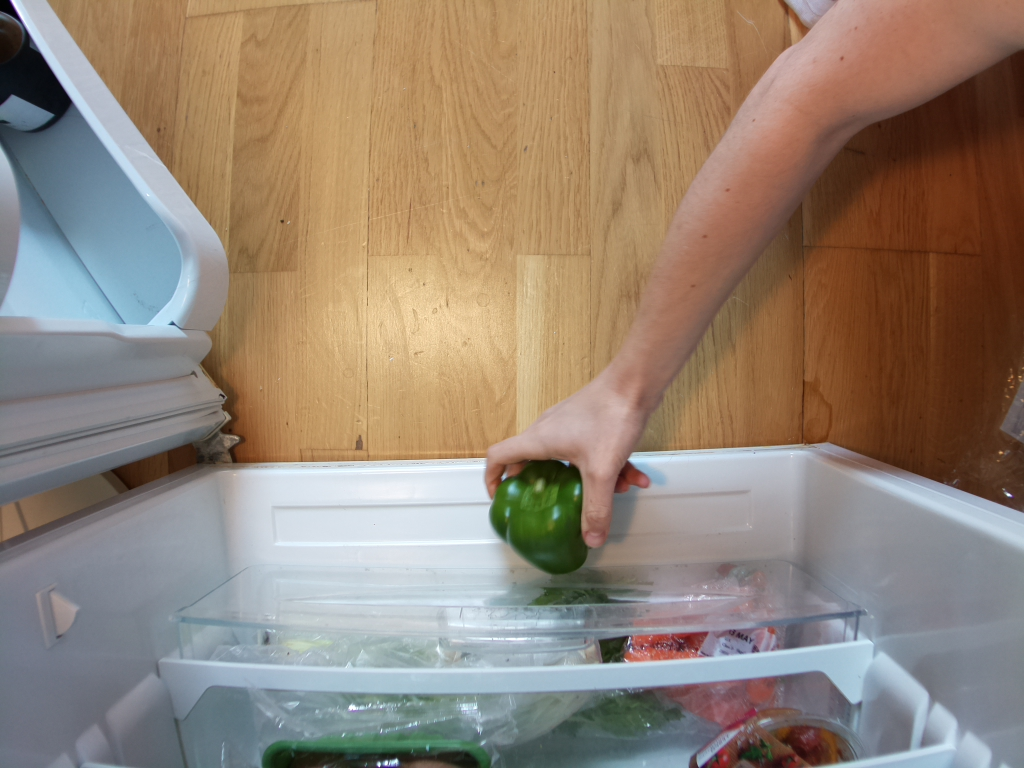pepper: (486, 458, 593, 574)
